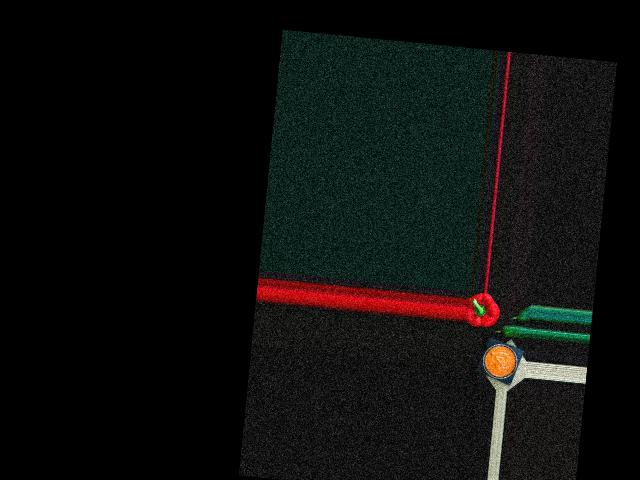bell_pepper: (466, 292, 500, 329)
